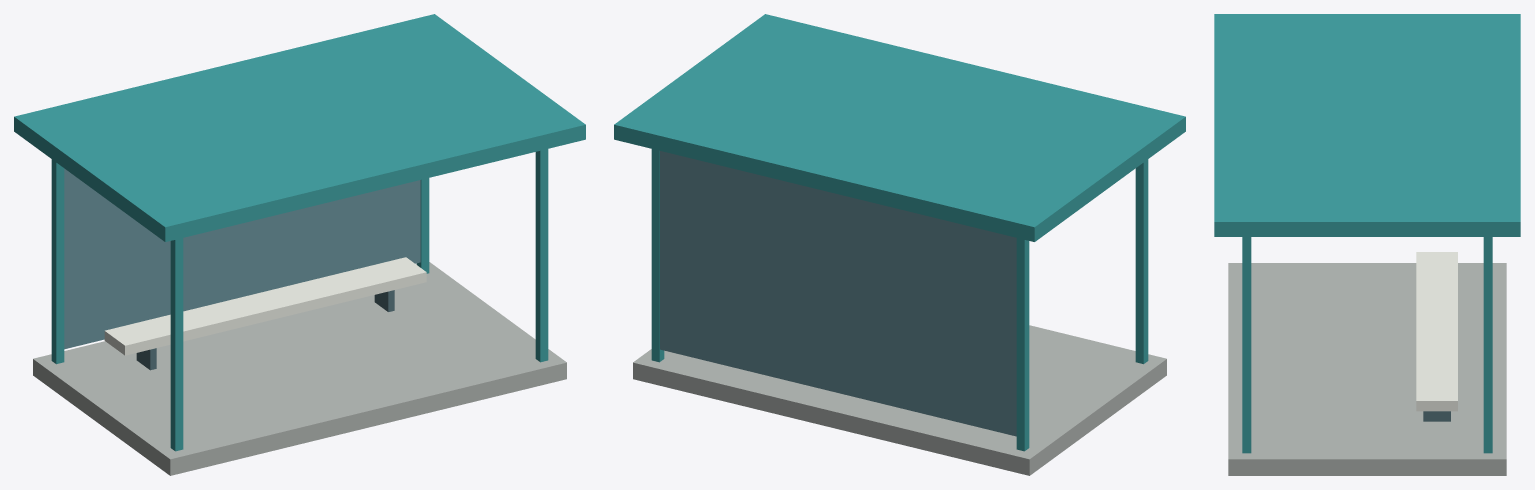
Rendered from TK_InstructorShelter.fbx.
3 views of the same model, side by side, from view 1: azimuth 30°, elevation 25°; view 2: azimuth 150°, elevation 25°; view 3: azimuth 270°, elevation 25° (orthographic).
Parts seen in each view (by area): view 1: Canopy, Plinth, BackPanel, Bench, ShelterPost, ShelterPost.002, ShelterPost.001, ShelterPost.003; view 2: BackPanel, Canopy, Plinth, ShelterPost.001, ShelterPost, ShelterPost.003; view 3: Canopy, Plinth, Bench, ShelterPost.002, ShelterPost.003.
Part boxes in pixels (bbox=[...]): Canopy: bbox=[14, 14, 585, 241]; Plinth: bbox=[33, 262, 566, 475]; BackPanel: bbox=[64, 168, 420, 349]; Bench: bbox=[104, 257, 426, 355]; ShelterPost: bbox=[170, 238, 183, 451]; ShelterPost.002: bbox=[535, 149, 548, 362]; ShelterPost.001: bbox=[51, 159, 64, 364]; ShelterPost.003: bbox=[416, 178, 429, 273]; BackPanel: bbox=[660, 151, 1016, 436]; Canopy: bbox=[614, 14, 1185, 241]; Plinth: bbox=[633, 325, 1166, 475]; ShelterPost.001: bbox=[1016, 238, 1029, 451]; ShelterPost: bbox=[1135, 159, 1148, 364]; ShelterPost.003: bbox=[651, 149, 664, 362]; Canopy: bbox=[1214, 14, 1520, 236]; Plinth: bbox=[1228, 263, 1506, 475]; Bench: bbox=[1416, 252, 1457, 411]; ShelterPost.002: bbox=[1242, 237, 1251, 453]; ShelterPost.003: bbox=[1483, 237, 1492, 453].
Size of the model in its own units: 5.3 by 3.09 by 3.3.
